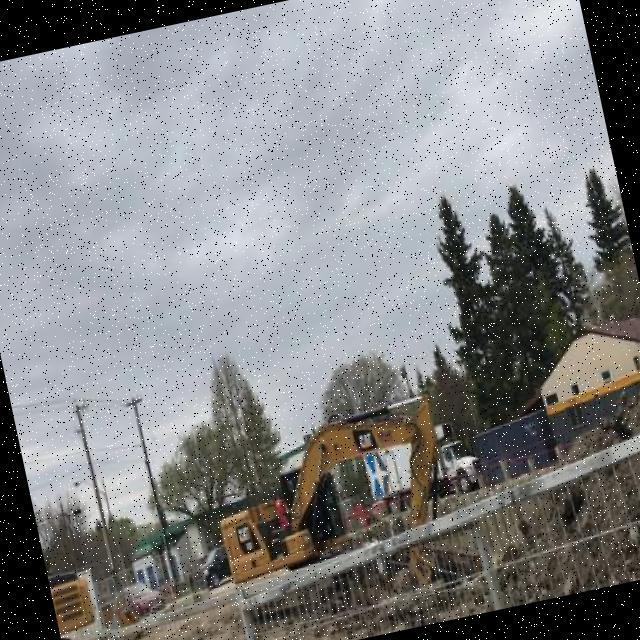Excavator: (195, 381, 484, 640), (46, 561, 107, 640)
